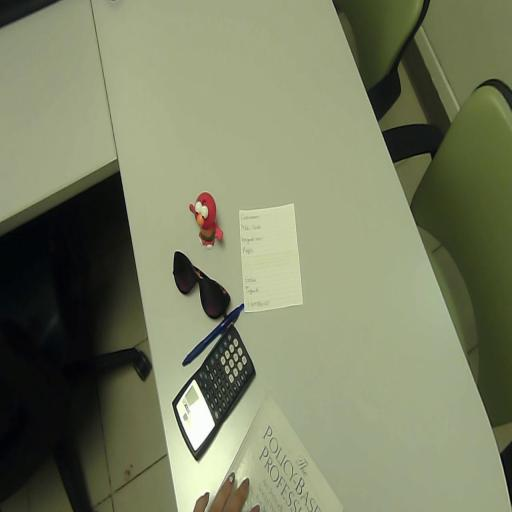pen: (183, 304, 244, 366)
